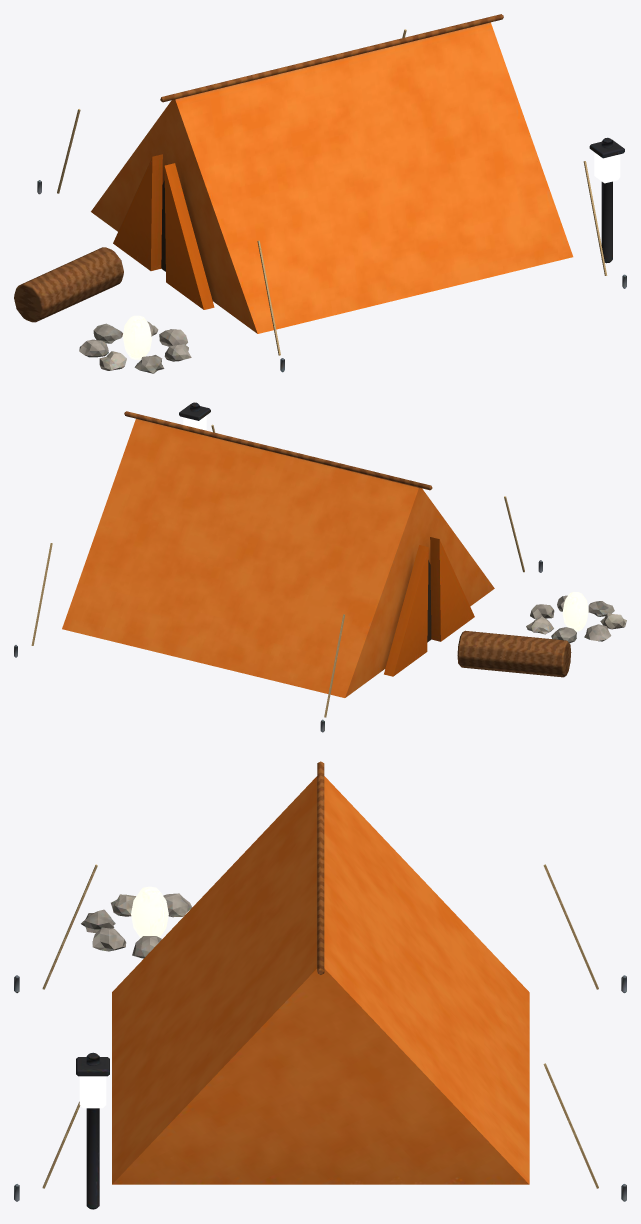
File: camping_tent.glb
3 views of the same model, one above another, from view 1: azimuth 30°, elevation 25°; view 2: azimuth 150°, elevation 25°; view 3: azimuth 270°, elevation 25° (orthographic). The views are drawn at different scales.
Parts seen in each view (by area): view 1: camping_tent; view 2: camping_tent; view 3: camping_tent.
Boxes of the visible parts, x1,y1,x2,y2 form: camping_tent: (14,14,626,373); camping_tent: (14,402,626,732); camping_tent: (14,761,626,1209).
Bounding box in the file's own units: 1.95 × 0.6904 × 1.61.
1 material, 1 textured.
